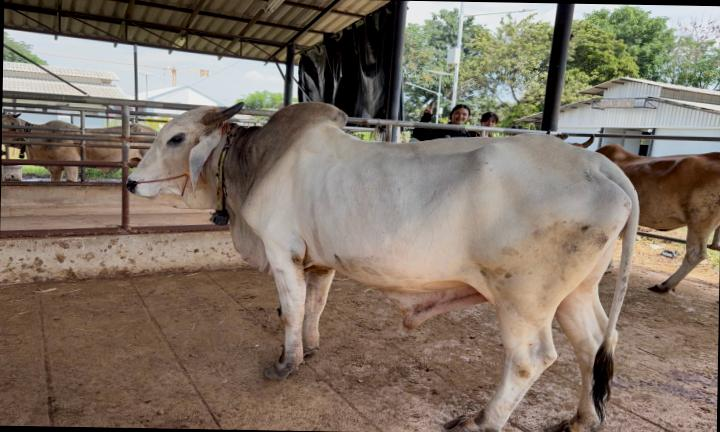Brahman: (127, 103, 639, 432)
